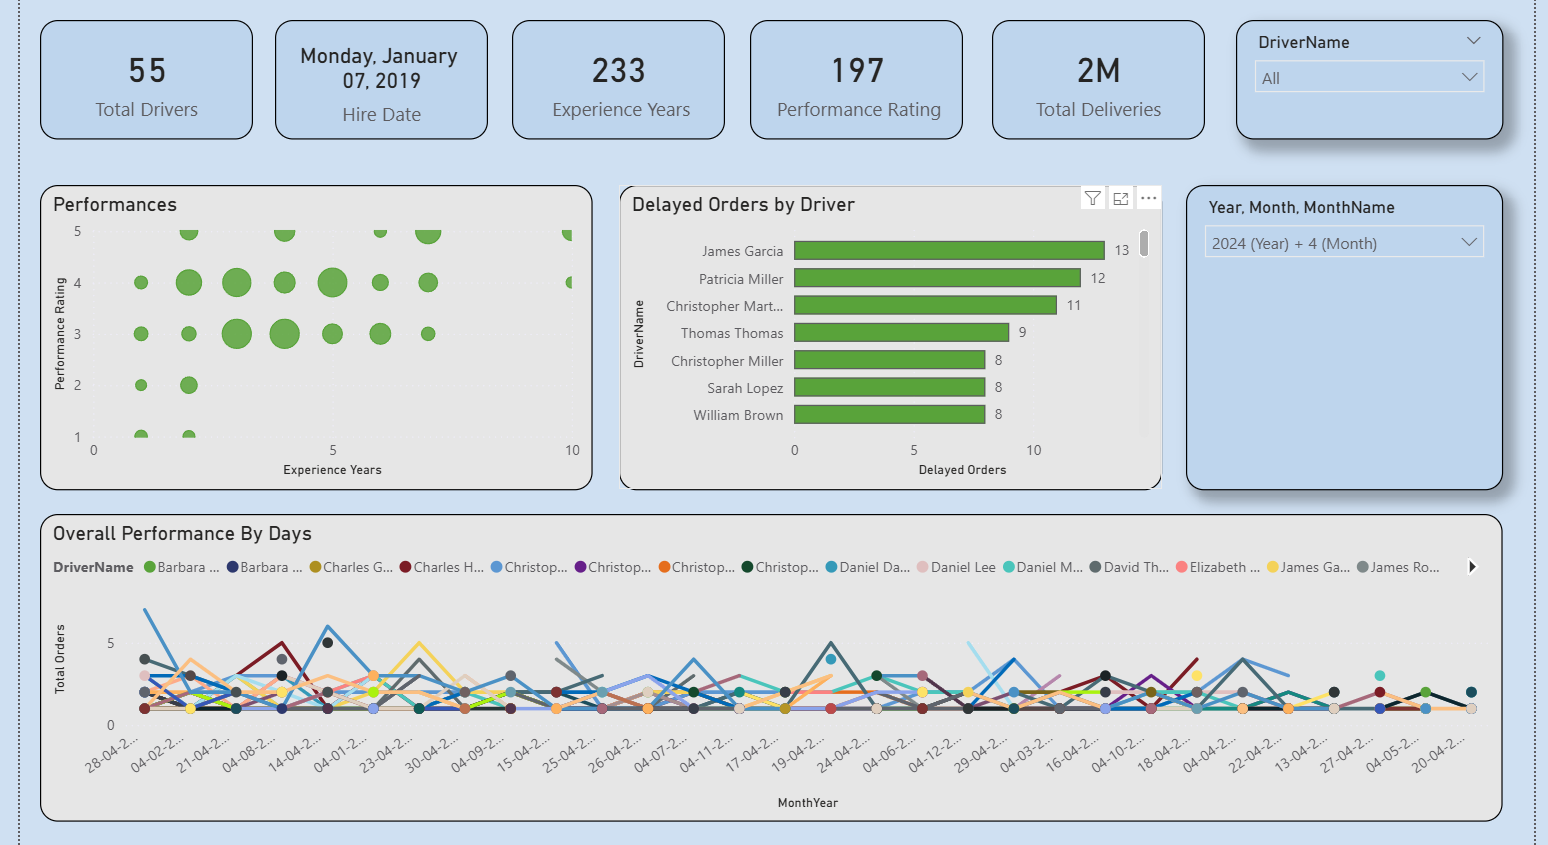

This screenshot's page, from the dashboard's own definition file:
{"tool":"powerbi","page":{"name":"Driver Report","canvas":[1280,720],"ordinal":2},"visuals":[{"type":"card","fields":{"Values":["CountNonNull(Drivers.DriverID)"]},"box":[17.2,21.9,180.3,101.1],"z":0},{"type":"scatterChart","title":"Performances","fields":{"Y":["Drivers.Performance Rating"],"X":["Drivers.Experience Years"],"Size":["Orders.Total Orders"]},"box":[17.2,161.2,467.4,257.5],"z":1000},{"type":"clusteredBarChart","title":"Delayed Orders by Driver","fields":{"Category":["Drivers.DriverName"],"Y":["CountNonNull(Orders.Delayed Orders)"]},"box":[506.5,161.2,458.8,257.5],"z":2000},{"type":"lineChart","title":"Overall Performance By Days","fields":{"Category":["Orders.MonthYear"],"Y":["Orders.Total Orders"],"Series":["Drivers.DriverName"]},"box":[17.2,439.7,1236.1,260.4],"z":3000},{"type":"slicer","fields":{"Values":["Orders.Year","Orders.Month","Orders.MonthName"]},"box":[985.3,161.2,268,257.5],"z":4000},{"type":"card","fields":{"Values":["Min(Drivers.Hire Date)"]},"box":[215.6,21.9,180.3,101.1],"z":5000},{"type":"card","fields":{"Values":["Sum(Drivers.Experience Years)"]},"box":[415.9,21.9,180.3,101.1],"z":6000},{"type":"card","fields":{"Values":["Sum(Drivers.Performance Rating)"]},"box":[617.1,21.9,180.3,101.1],"z":7000},{"type":"card","fields":{"Values":["Sum(Drivers.Total Deliveries)"]},"box":[821.2,21.9,180.3,101.1],"z":8000},{"type":"slicer","fields":{"Values":["Drivers.DriverName"]},"box":[1027.2,21.9,226.1,101.1],"z":9000}]}

Visuals, with their boxes on the page's 1280x720 design canvas (x1, y1, x2, y2). These are canvas units, not pixel positions in the 1548x845 screenshot, which may show the page scaled, cropped or inside an application window:
card - CountNonNull(Drivers.DriverID): Rect(17, 22, 198, 123)
"Performances" scatterChart: Rect(17, 161, 485, 419)
"Delayed Orders by Driver" clusteredBarChart: Rect(506, 161, 965, 419)
"Overall Performance By Days" lineChart: Rect(17, 440, 1253, 700)
slicer - Orders.Year x Orders.Month: Rect(985, 161, 1253, 419)
card - Min(Drivers.Hire Date): Rect(216, 22, 396, 123)
card - Sum(Drivers.Experience Years): Rect(416, 22, 596, 123)
card - Sum(Drivers.Performance Rating): Rect(617, 22, 797, 123)
card - Sum(Drivers.Total Deliveries): Rect(821, 22, 1002, 123)
slicer - Drivers.DriverName: Rect(1027, 22, 1253, 123)
